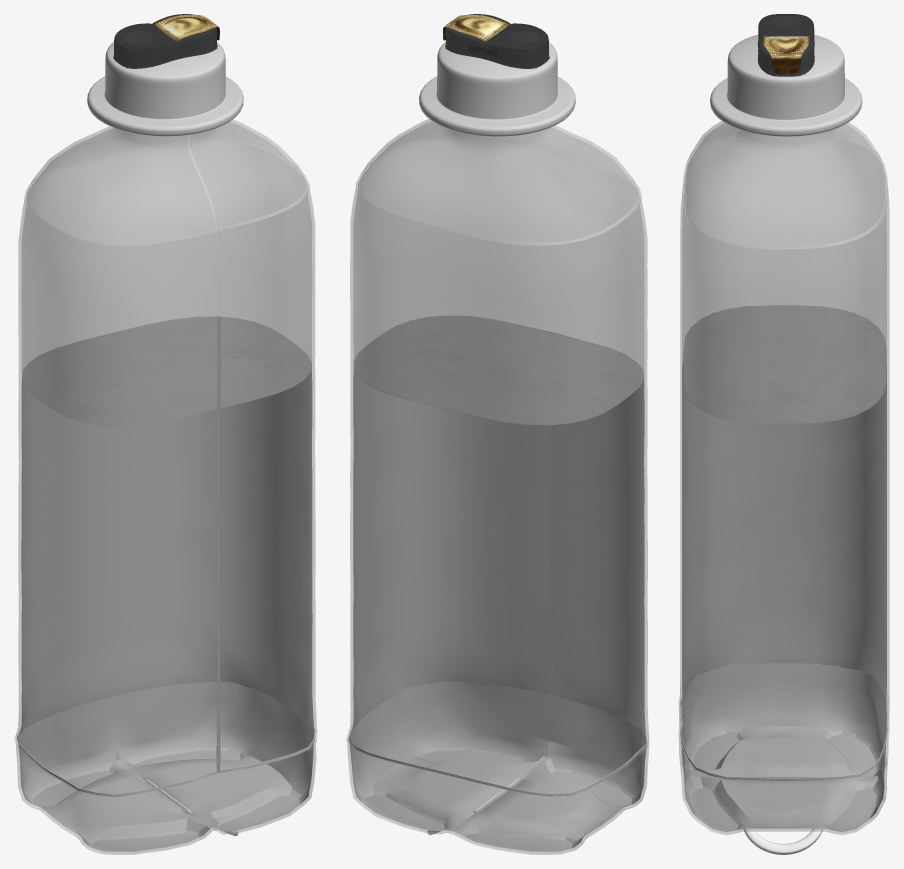
Rendered from B1_Lamina_Rota_corregida-239e19.glb.
The picture shows the model from 3 angles, left to right: view 1: azimuth 30°, elevation 25°; view 2: azimuth 150°, elevation 25°; view 3: azimuth 270°, elevation 25°; orthographic projection. The views are drawn at different scales.
Visible parts, largest first — view 1: BotellaPlastica, LiquidoSuperficie, Sombrero, Caperuzo, Solapa1; view 2: BotellaPlastica, LiquidoSuperficie, Sombrero, Caperuzo, Solapa1; view 3: BotellaPlastica, LiquidoSuperficie, Sombrero, Caperuzo, Solapa1, Agarre.
Part boxes in pixels (x1,y1,x2,y2): BotellaPlastica: (14, 119, 317, 854); LiquidoSuperficie: (21, 317, 312, 425); Sombrero: (87, 42, 243, 136); Caperuzo: (113, 14, 217, 68); Solapa1: (153, 15, 219, 42); BotellaPlastica: (346, 119, 649, 854); LiquidoSuperficie: (353, 315, 644, 425); Sombrero: (419, 42, 575, 136); Caperuzo: (445, 14, 549, 68); Solapa1: (443, 15, 509, 41); BotellaPlastica: (678, 121, 889, 834); LiquidoSuperficie: (684, 305, 886, 423); Sombrero: (710, 35, 862, 136); Caperuzo: (757, 14, 814, 76); Solapa1: (763, 36, 809, 74); Agarre: (740, 777, 823, 854).
Bounding box in the file's own units: 0.075 × 0.2299 × 0.0556.
Materials: 9 (7 with a texture image).
